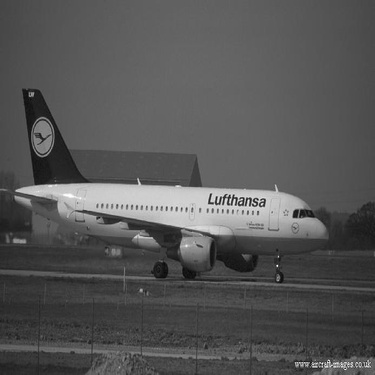airplane: (3, 74, 338, 293)
